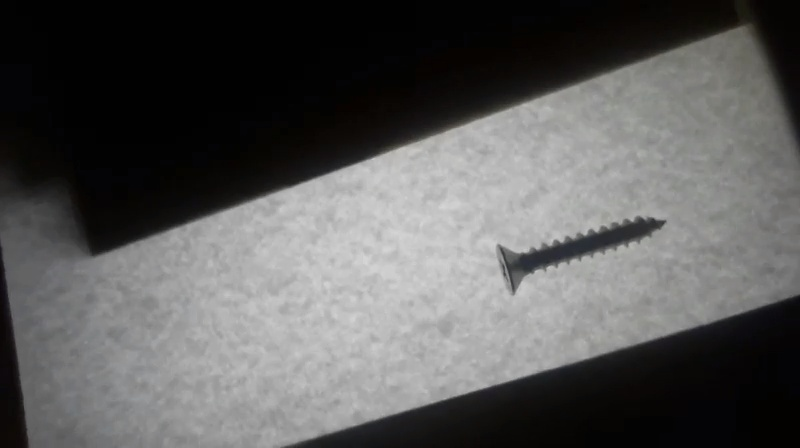S001: (491, 213, 673, 300)
